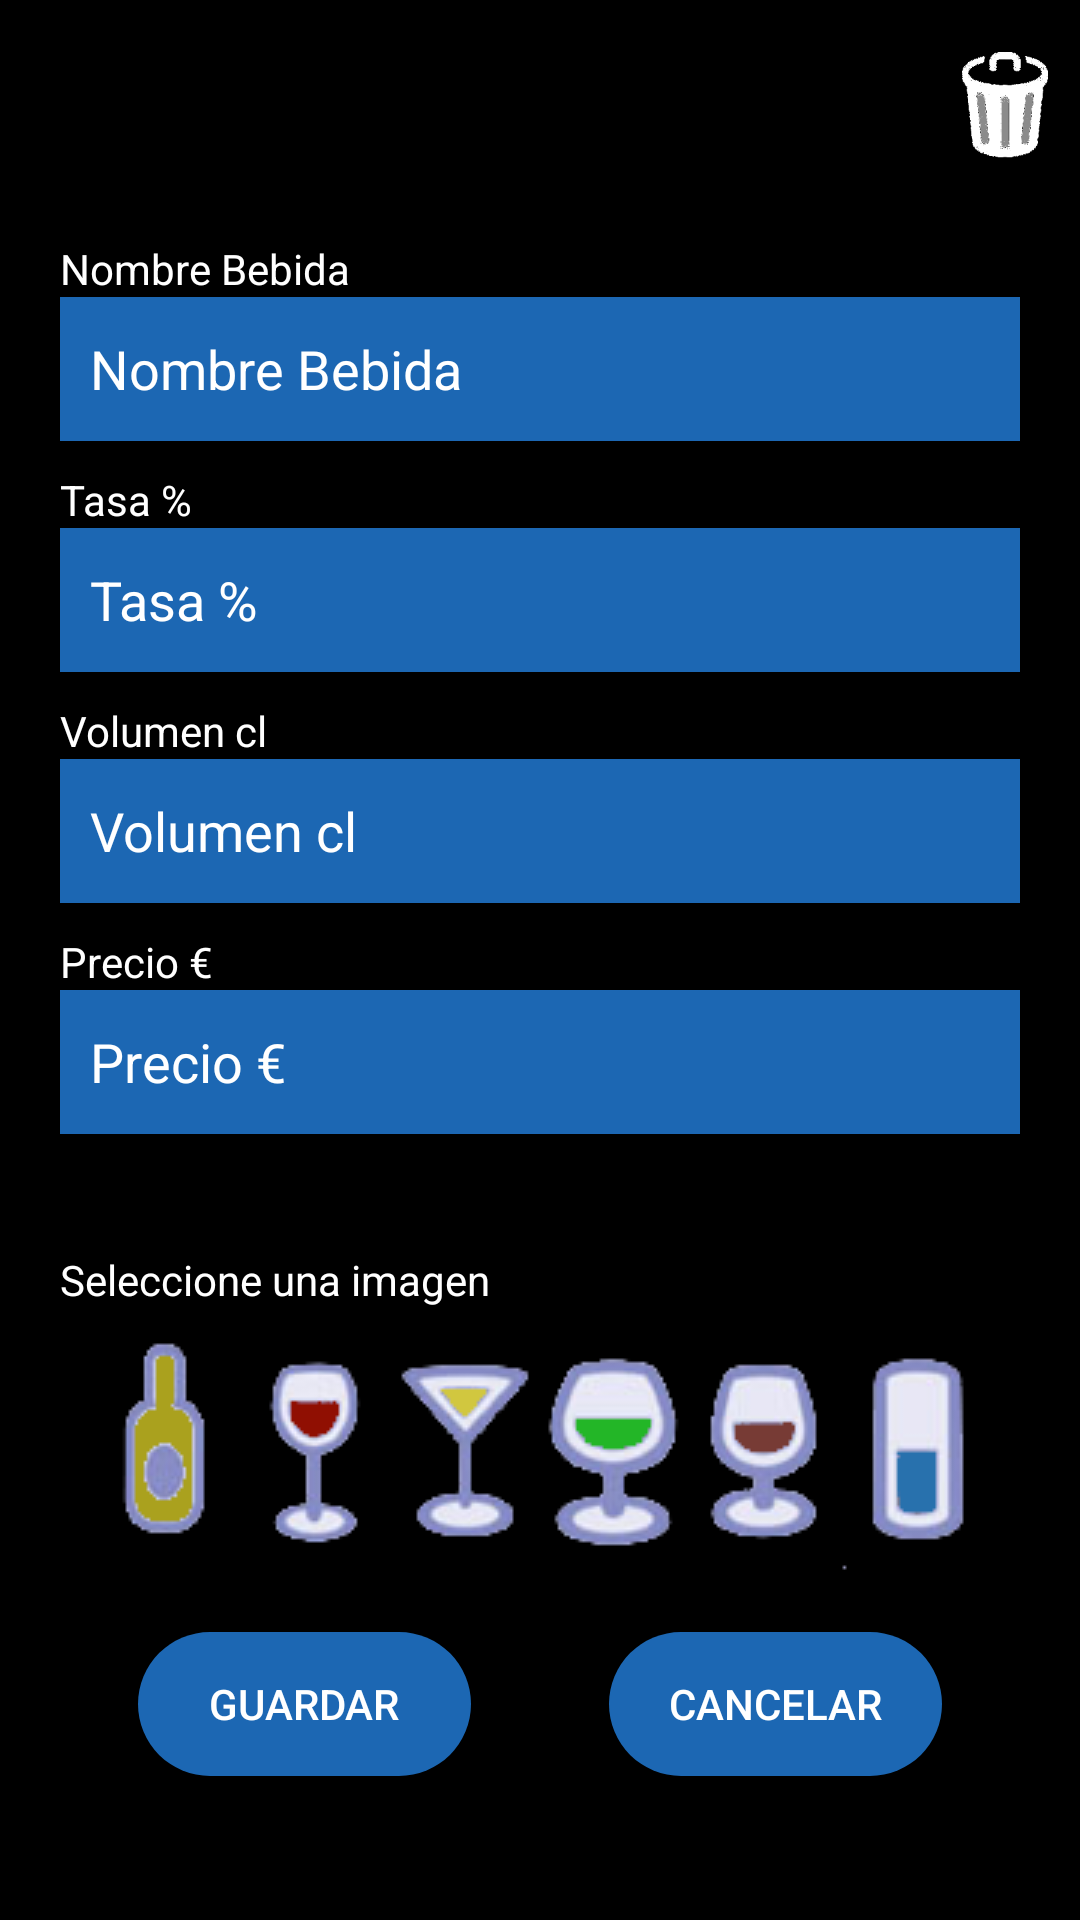

Locate icon controls on the screen. Image size 1080px×1920px, boxes as [x1,y1,x2,y2].
Eliminar: [962,52,1048,158]
